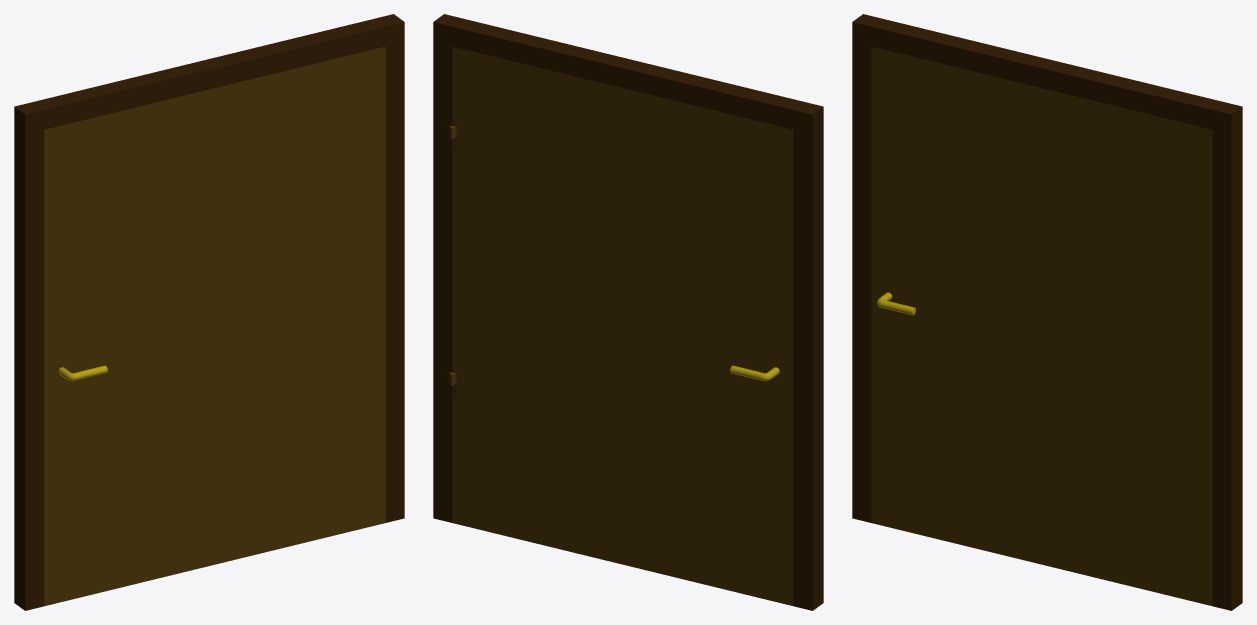
Rendered from door1.glb.
The picture shows the model from 3 angles, left to right: view 1: azimuth 30°, elevation 25°; view 2: azimuth 150°, elevation 25°; view 3: azimuth 330°, elevation 25°; orthographic projection.
Parts seen in each view (by area): view 1: door, doorpost; view 2: door, doorpost; view 3: door, doorpost.
Boxes of the visible parts, bbox=[...] form: door: bbox=[44, 46, 385, 606]; doorpost: bbox=[14, 14, 404, 610]; door: bbox=[449, 46, 793, 606]; doorpost: bbox=[433, 14, 823, 610]; door: bbox=[871, 46, 1212, 606]; doorpost: bbox=[852, 14, 1242, 610].
Bounding box in the file's own units: 2 × 2.5 × 0.3112.
